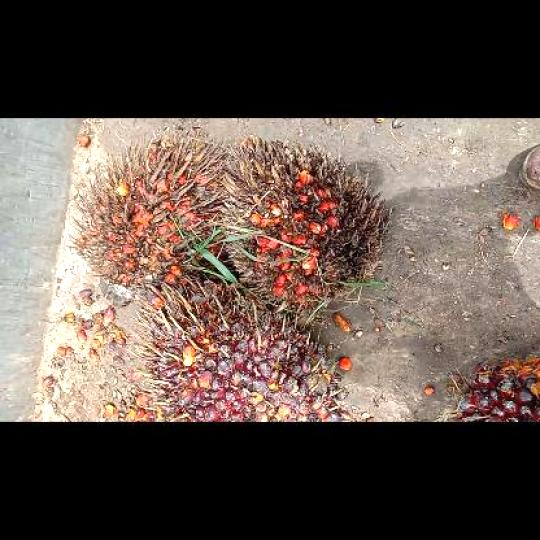masak: (126, 281, 352, 420)
terlalu masak: (221, 132, 392, 315), (64, 131, 229, 300)
